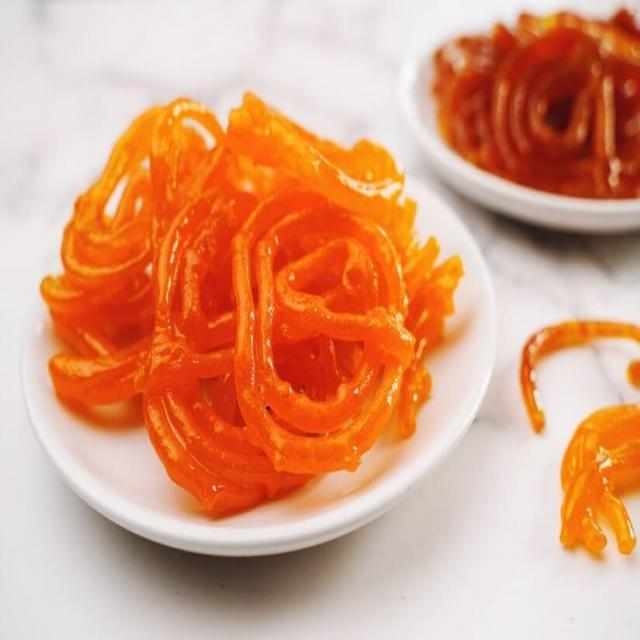jalebi: (38, 97, 426, 497), (443, 3, 633, 200)
